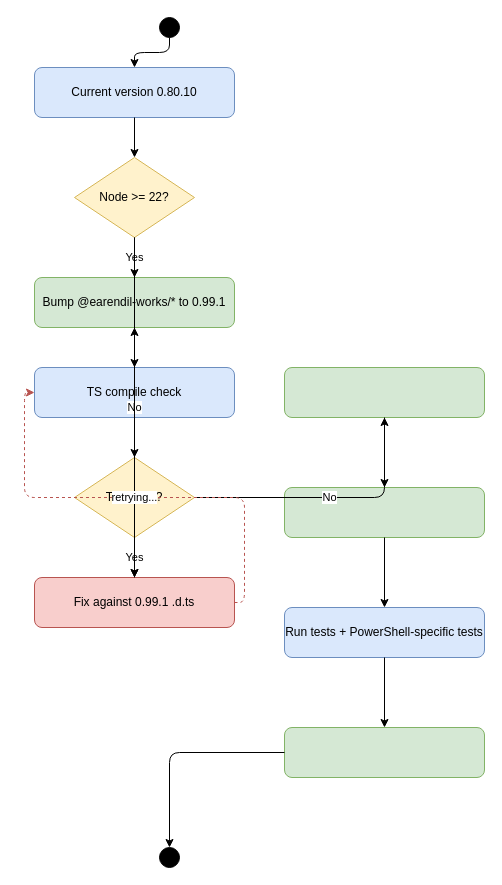
This 502x885 diagram has some shape labels left out. Here are the shapes that lost their labels. From the top down, the centre of each, then its label:
(x=384, y=392): Wire PowerShell tool (win32)
(x=384, y=512): Update workflow gates + system prompt
(x=384, y=752): Package VSIX + UAT
